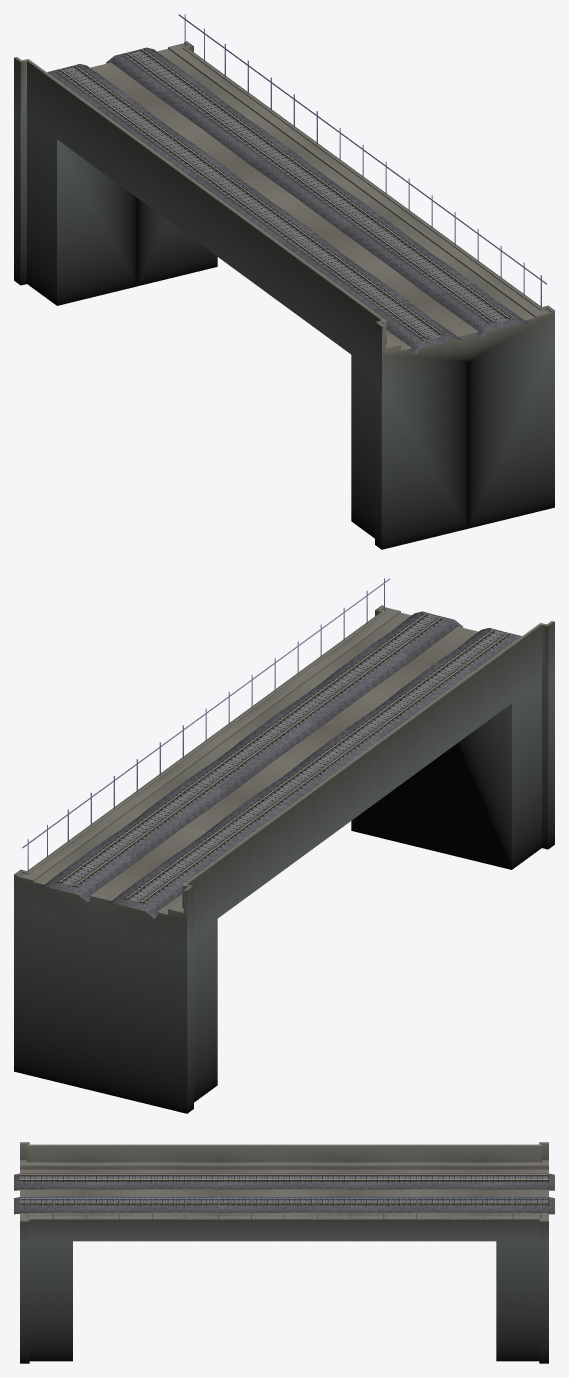
File: 2RAIL_SHINKAN_01.glb
3 renders of one model, top to bottom at view 1: azimuth 30°, elevation 25°; view 2: azimuth 150°, elevation 25°; view 3: azimuth 270°, elevation 25°, orthographic. The views are drawn at different scales.
Visible parts, largest first — view 1: obj3; view 2: obj3; view 3: obj3.
Boxes of the visible parts, left/top/right/bottom form: obj3: left=14, top=14, right=554, bottom=549; obj3: left=14, top=578, right=554, bottom=1113; obj3: left=14, top=1142, right=554, bottom=1363.
Size of the model in its own units: 54.36 by 69.05 by 205.
Materials: 13 (3 with a texture image).
